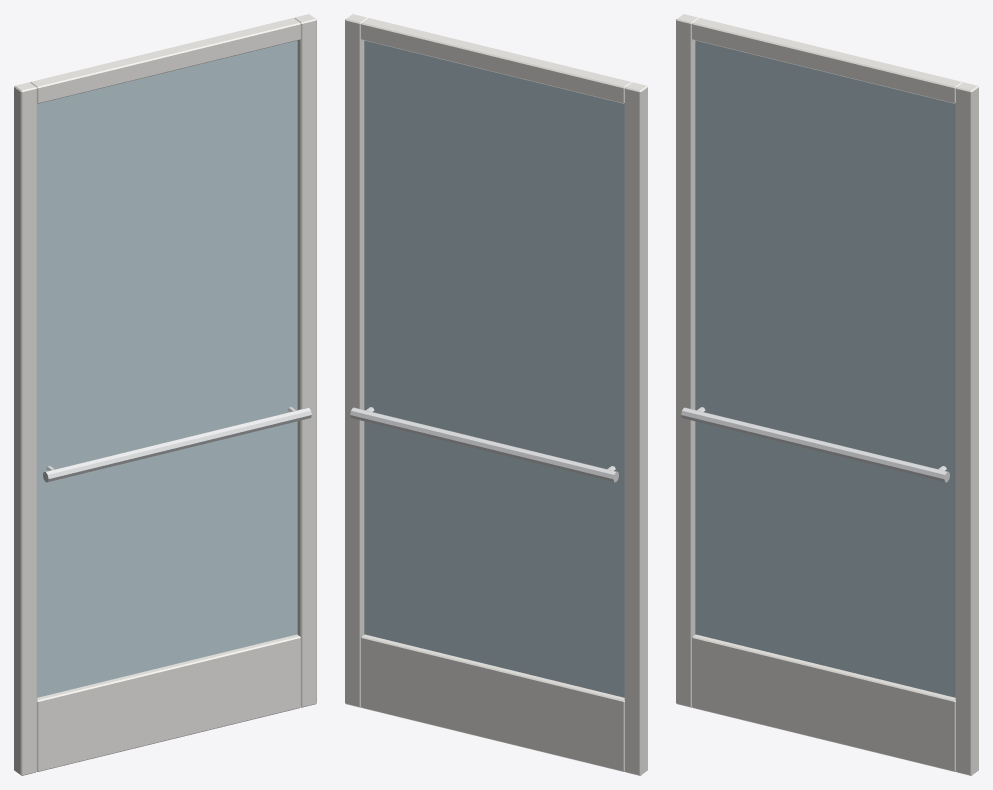
Rendered from door_glass_1.glb.
3 views of the same model, side by side, from view 1: azimuth 30°, elevation 25°; view 2: azimuth 150°, elevation 25°; view 3: azimuth 330°, elevation 25° (orthographic).
Parts seen in each view (by area): view 1: door_glass_1_glass, door_glass_1_frame, door_glass_1_chrome; view 2: door_glass_1_glass, door_glass_1_frame, door_glass_1_chrome; view 3: door_glass_1_glass, door_glass_1_frame, door_glass_1_chrome.
Part boxes in pixels (left/top/right/bottom): door_glass_1_glass: left=37, top=40, right=297, bottom=697; door_glass_1_frame: left=14, top=14, right=316, bottom=775; door_glass_1_chrome: left=43, top=407, right=311, bottom=482; door_glass_1_glass: left=364, top=40, right=624, bottom=697; door_glass_1_frame: left=345, top=14, right=647, bottom=775; door_glass_1_chrome: left=350, top=407, right=618, bottom=482; door_glass_1_glass: left=695, top=40, right=955, bottom=697; door_glass_1_frame: left=676, top=14, right=978, bottom=775; door_glass_1_chrome: left=681, top=407, right=949, bottom=482.
Bounding box in the file's own units: 1.08 × 2.39 × 0.186.
